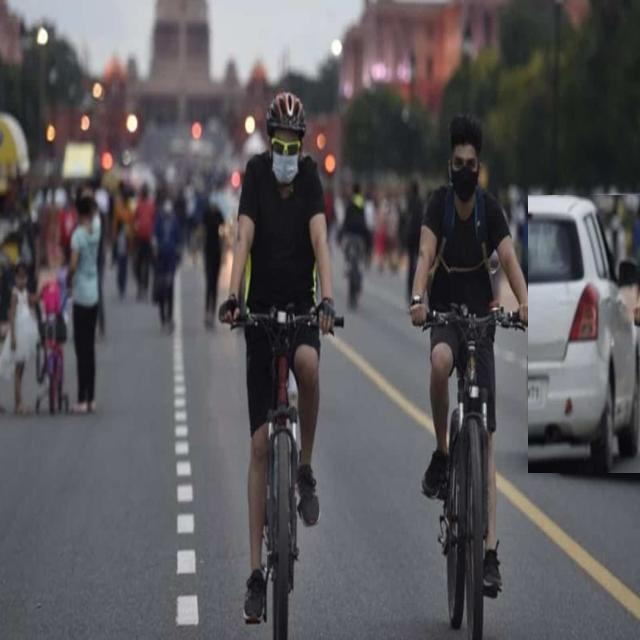bicycle: (220, 91, 344, 636), (410, 115, 532, 637)
car: (528, 196, 640, 473)
